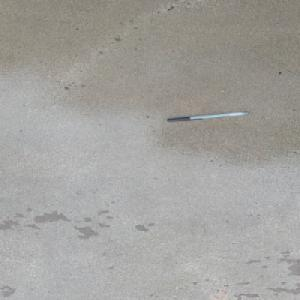Pen: (166, 111, 249, 122)
